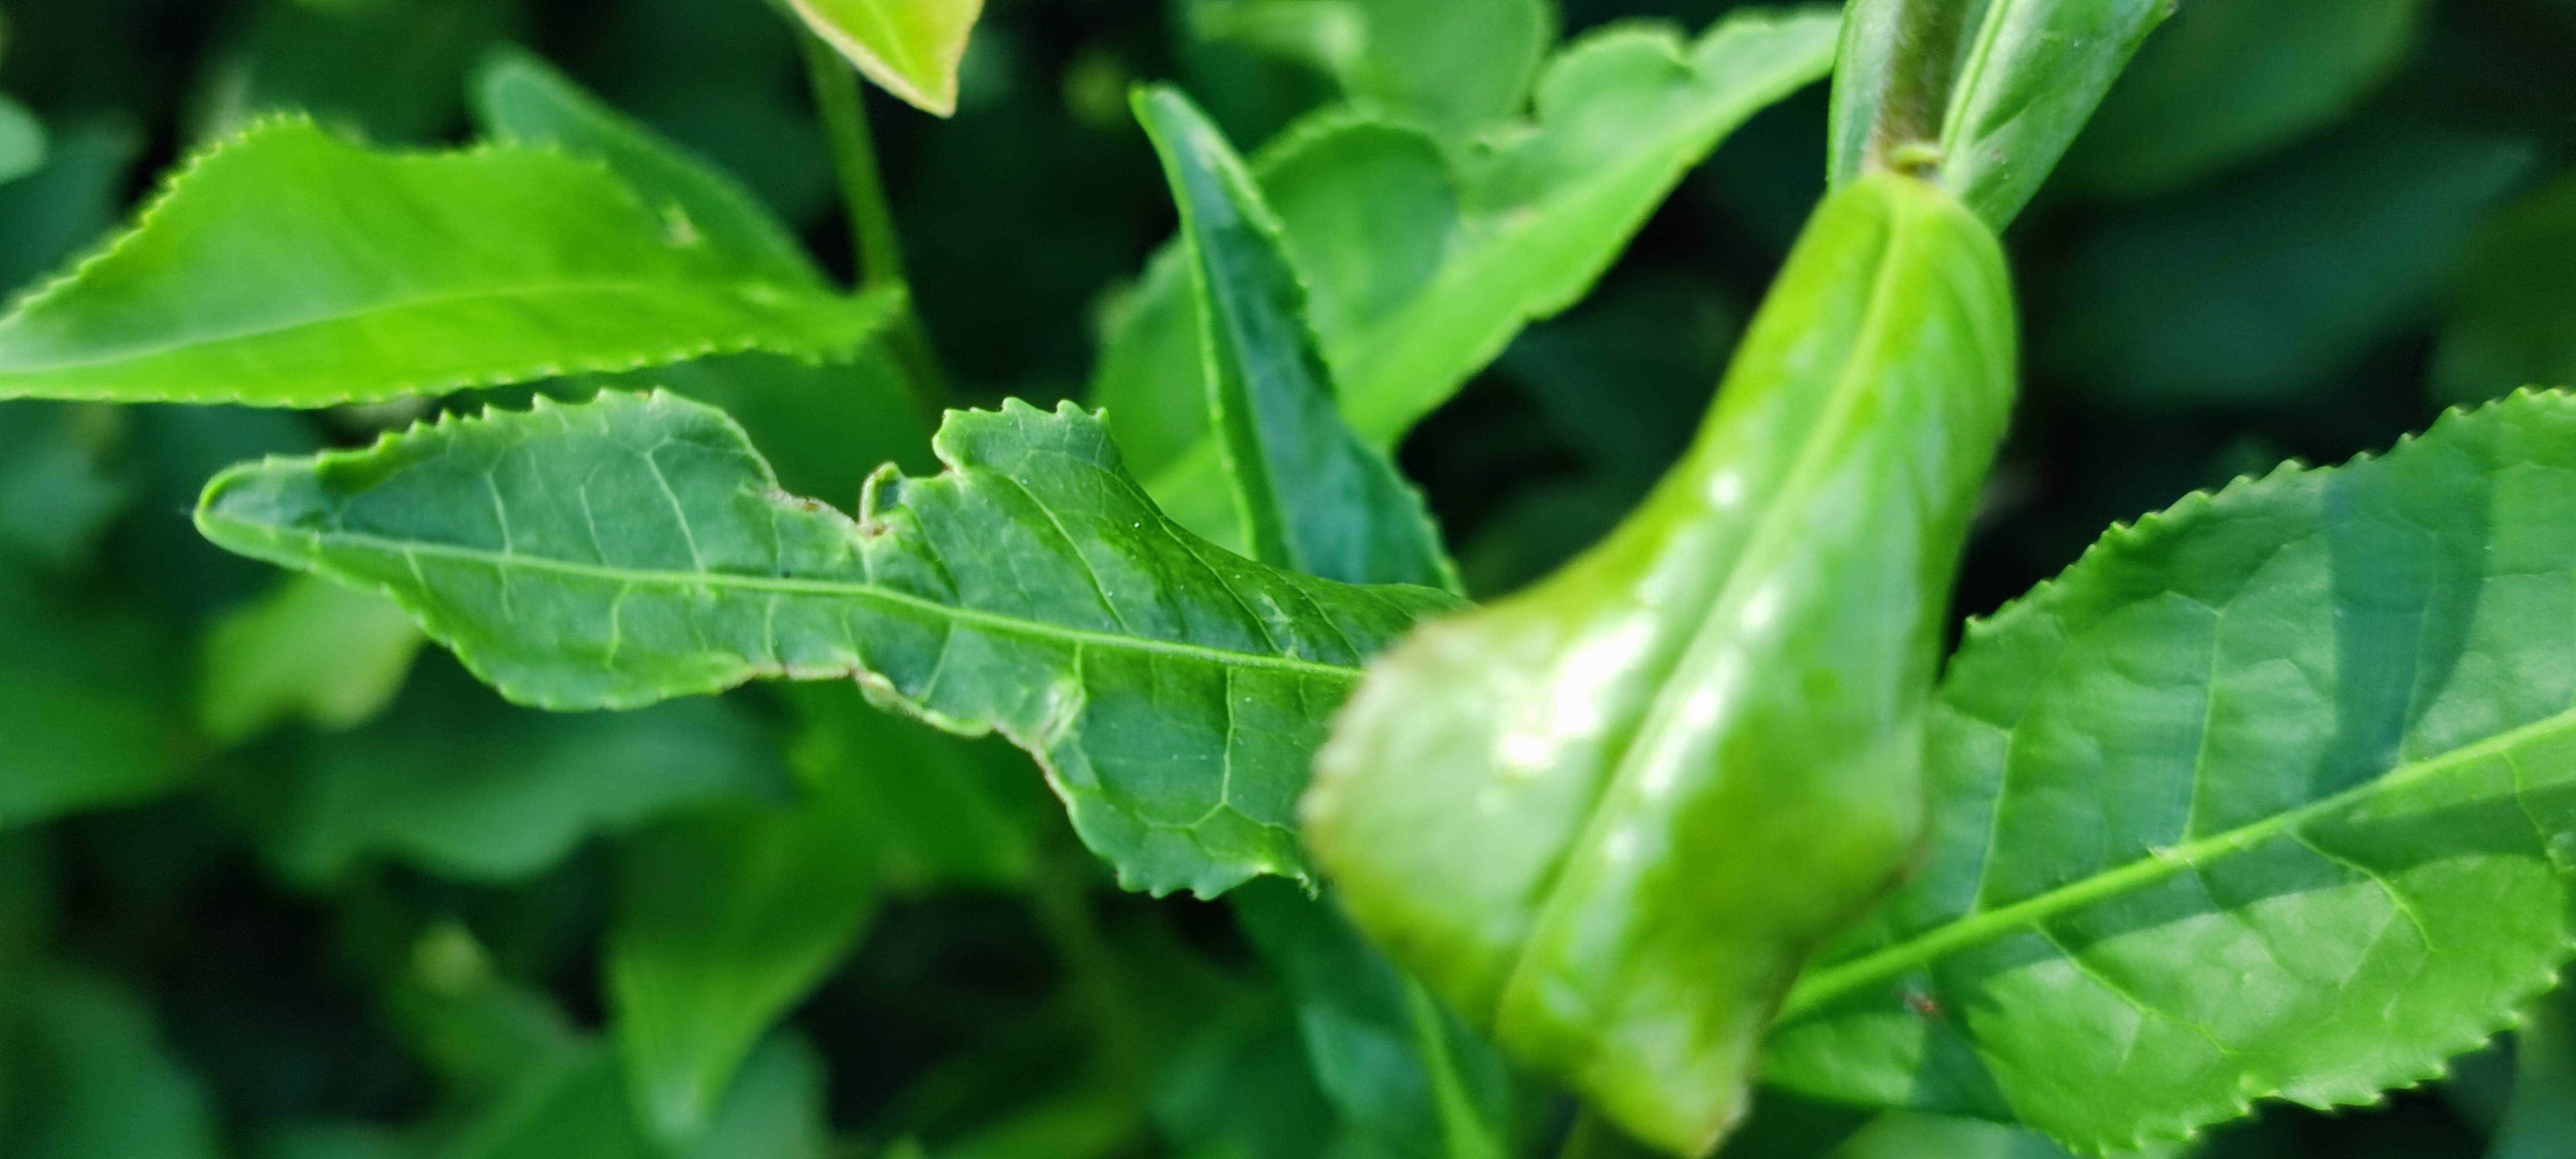chihuo_high: (182, 386, 1477, 908)
healthy: (1771, 392, 2571, 1157), (0, 108, 912, 414)
